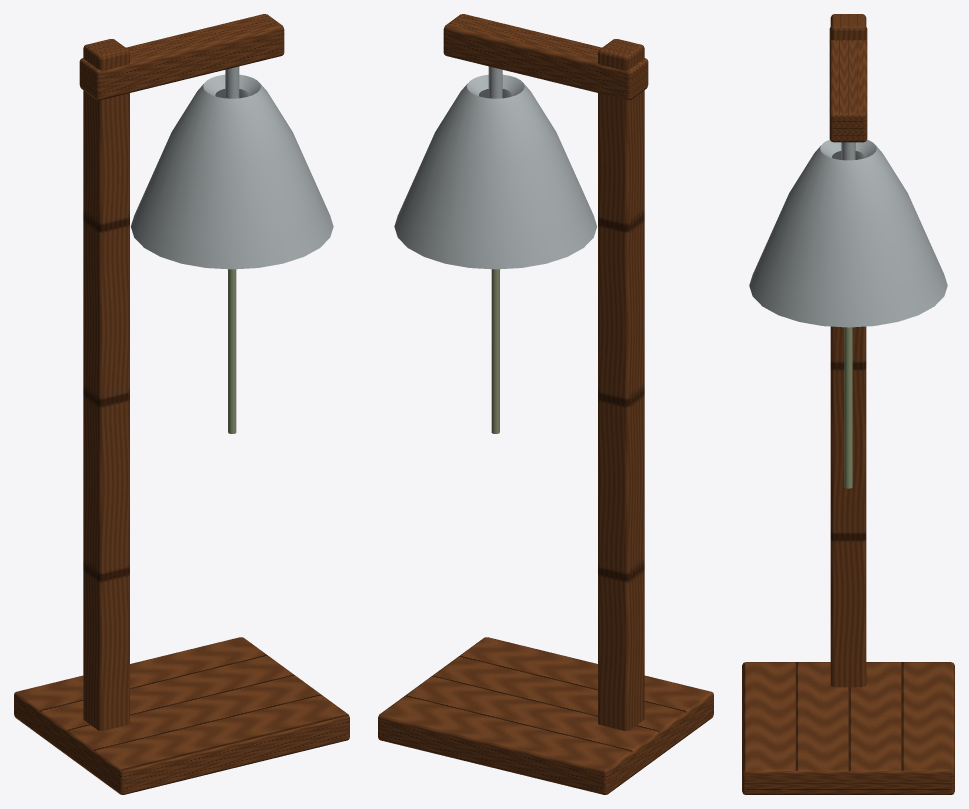
Rendered from flooded-and-coastal-survival-shoreline-fog-bell-44fb1dc2__20088.glb.
The picture shows the model from 3 angles, left to right: view 1: azimuth 30°, elevation 25°; view 2: azimuth 150°, elevation 25°; view 3: azimuth 270°, elevation 25°; orthographic projection. The views are drawn at different scales.
Visible parts, largest first — view 1: shoreline-fog-bell; view 2: shoreline-fog-bell; view 3: shoreline-fog-bell.
Boxes of the visible parts, x1,y1,x2,y2 form: shoreline-fog-bell: (14,14,349,794); shoreline-fog-bell: (378,14,713,794); shoreline-fog-bell: (742,14,954,794).
Size of the model in its own units: 0.605 by 1.6 by 0.4501.
3 materials, 1 textured.
